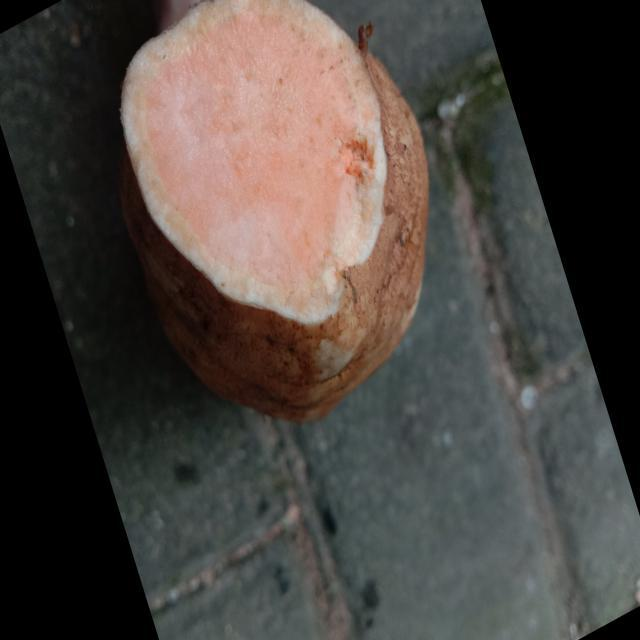Healthy Sweet Potato: (121, 2, 386, 323)
